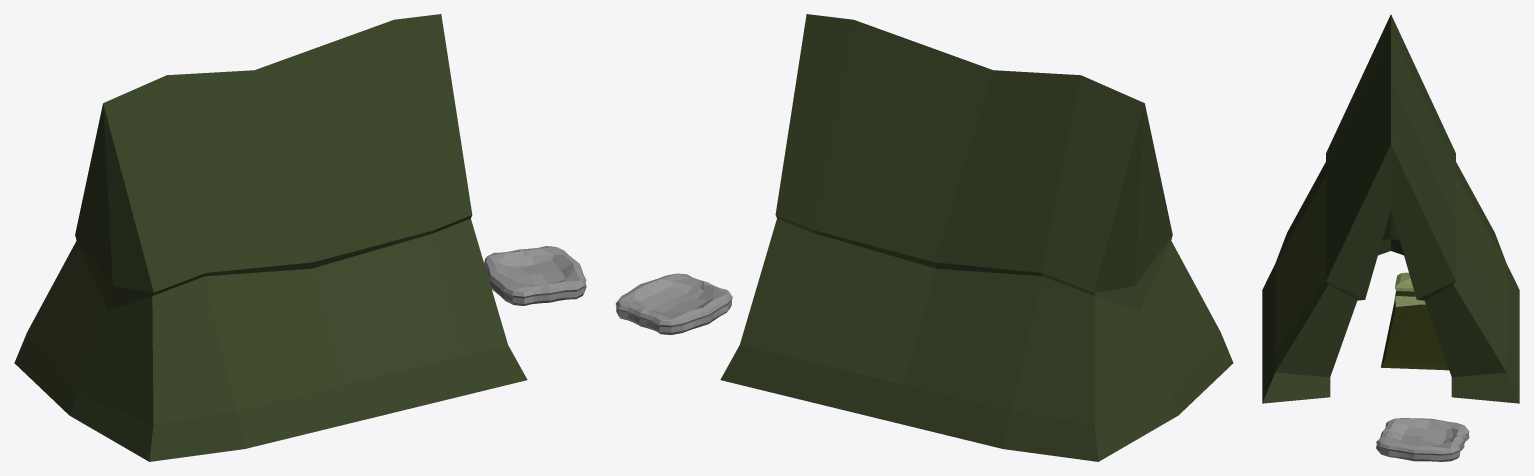
Rendered from tent.fbx.
3 renders of one model, left to right at view 1: azimuth 30°, elevation 25°; view 2: azimuth 150°, elevation 25°; view 3: azimuth 270°, elevation 25°, orthographic. The views are drawn at different scales.
Visible parts, largest first — view 1: Tent, Fireplace; view 2: Tent, Fireplace; view 3: Tent, Sack, Fireplace.
Part boxes in pixels (box(x1,y1,x2,y2)): Tent: box(14, 14, 527, 461); Fireplace: box(484, 246, 586, 305); Tent: box(720, 14, 1233, 461); Fireplace: box(615, 273, 732, 334); Tent: box(1262, 14, 1519, 403); Sack: box(1381, 272, 1448, 370); Fireplace: box(1376, 418, 1469, 461).
Size of the model in its own units: 650 by 377 by 333.
